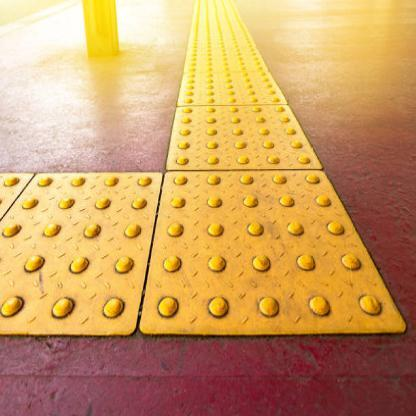podotacti: (2, 8, 407, 333)
